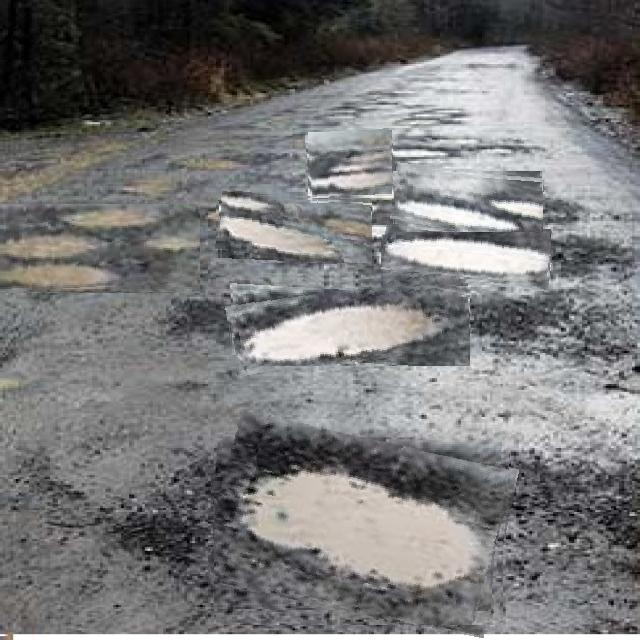Pothole: (214, 424, 512, 625), (228, 272, 470, 366), (0, 204, 200, 292), (216, 193, 372, 263), (381, 229, 552, 287), (392, 167, 543, 232), (307, 130, 393, 198)
